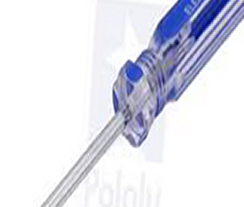Screwdriver: (38, 1, 244, 207)
